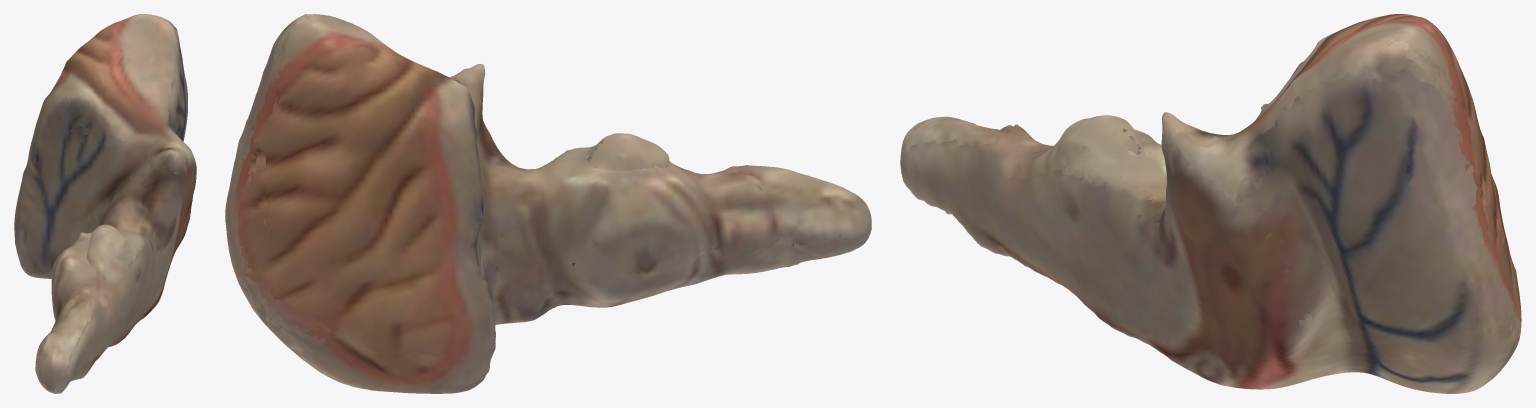
File: brainstem.glb
3 renders of one model, left to right at view 1: azimuth 30°, elevation 25°; view 2: azimuth 150°, elevation 25°; view 3: azimuth 270°, elevation 25°, orthographic. The views are drawn at different scales.
Parts seen in each view (by area): view 1: Object_2; view 2: Object_2; view 3: Object_2.
Boxes of the visible parts, x1,y1,x2,y2 form: Object_2: (14, 14, 196, 393); Object_2: (225, 14, 871, 393); Object_2: (900, 14, 1521, 393).
Size of the model in its own units: 54.34 by 41.84 by 59.4.
1 material, 1 textured.
